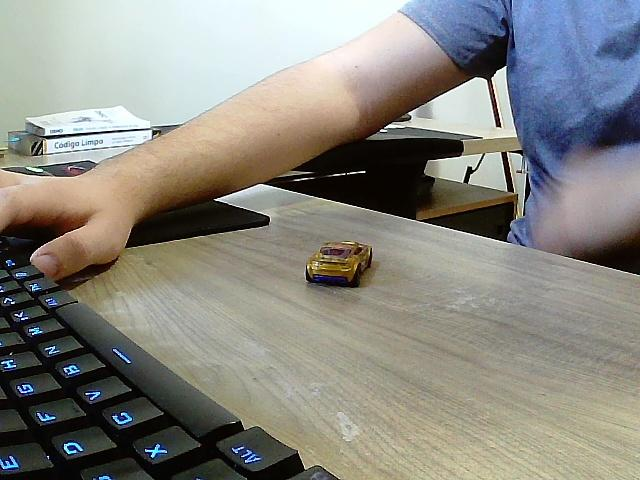Carro: (305, 241, 373, 289)
